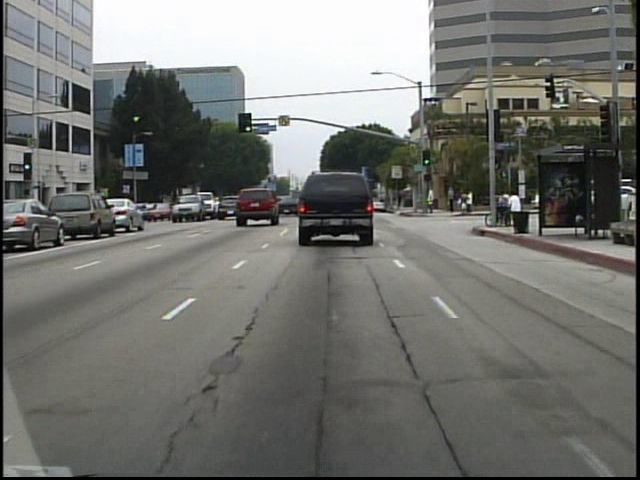person: (424, 184, 438, 218), (446, 181, 458, 216), (393, 186, 405, 212)
